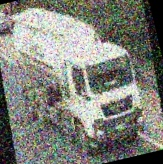truck: (0, 0, 159, 164)
